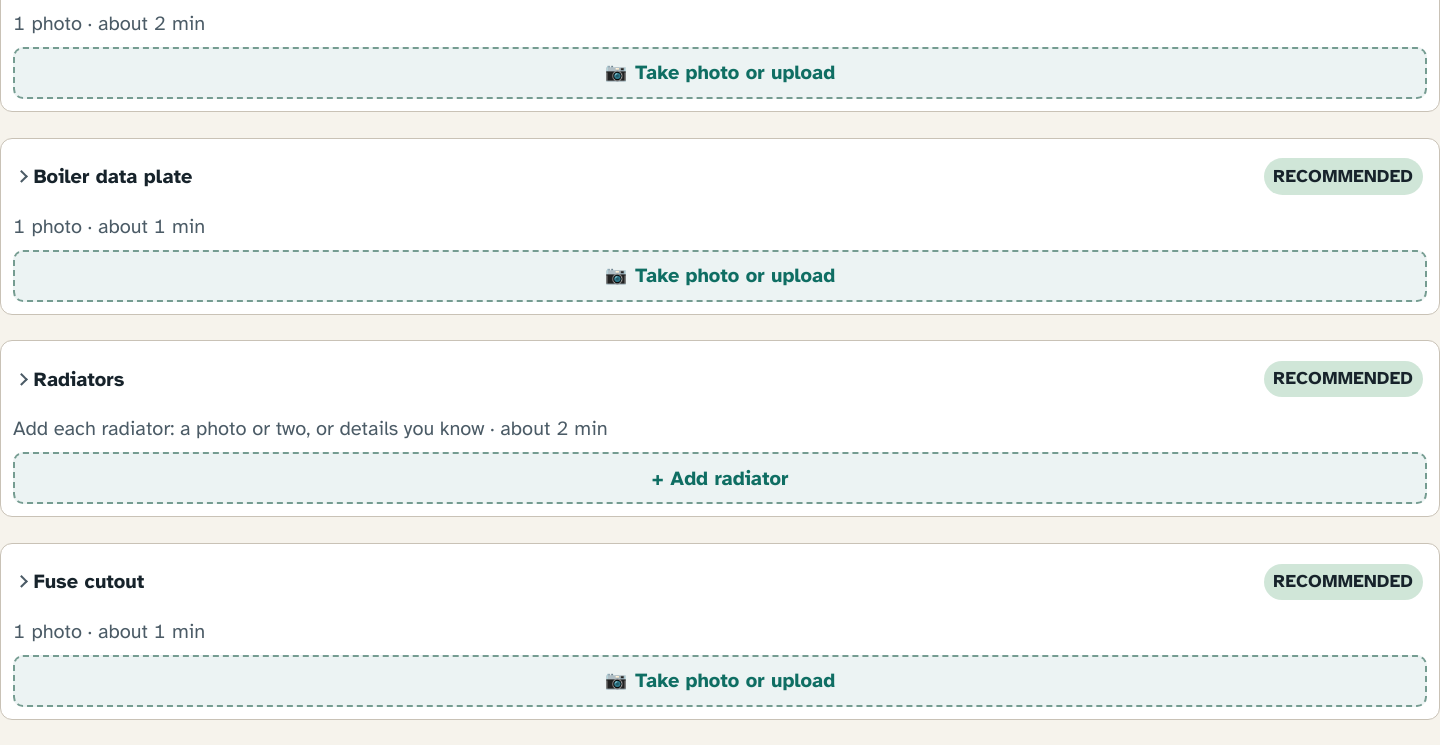
it: CaptureScreen guide › shows a why-need control for each capture upload and the radiator video when expanded
(page scrolled)
What coordinates should you click on to do the following:
click the button "Radiators Recommended"
I would click on:
 (79, 379)
Its box is [13,353,1427,405].
(page scrolled)
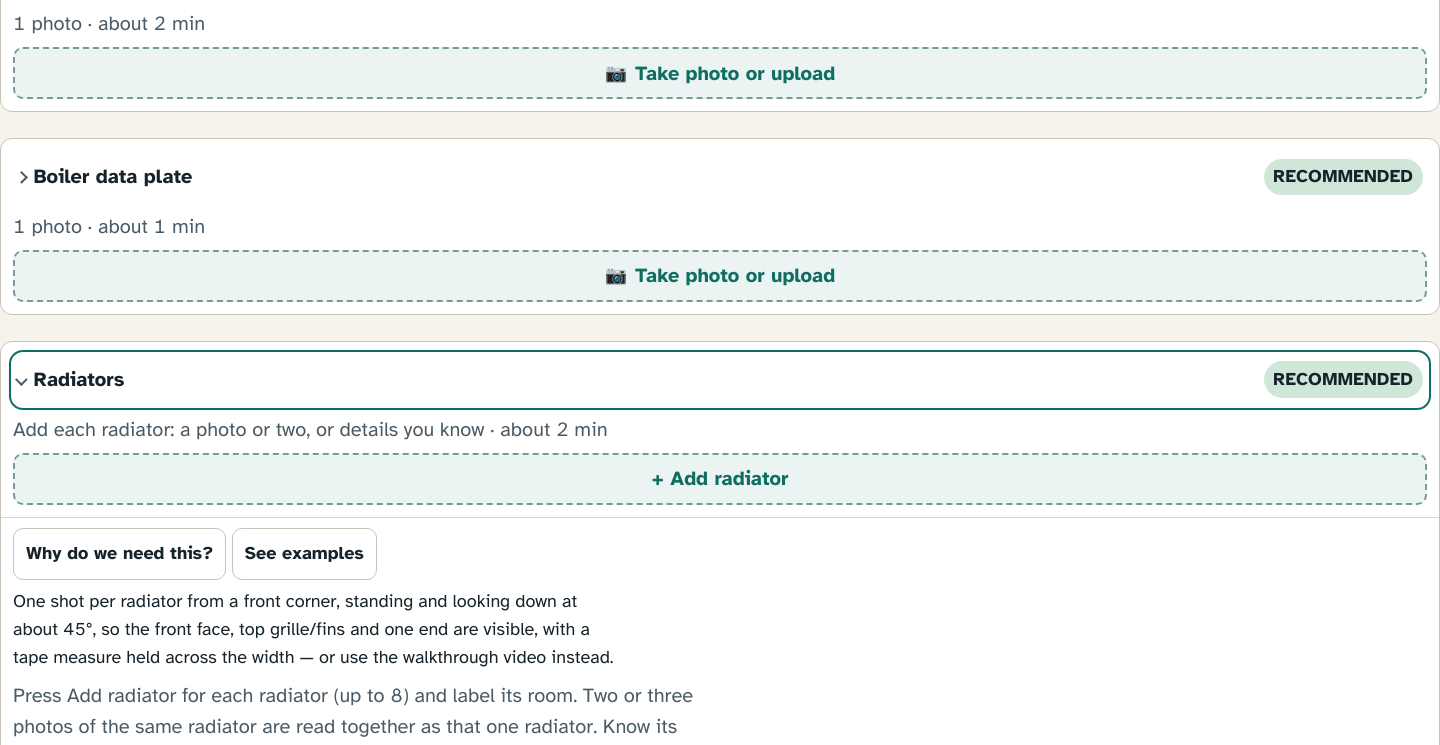
Expected: the number of buttons "Why do we need this?" is 2
